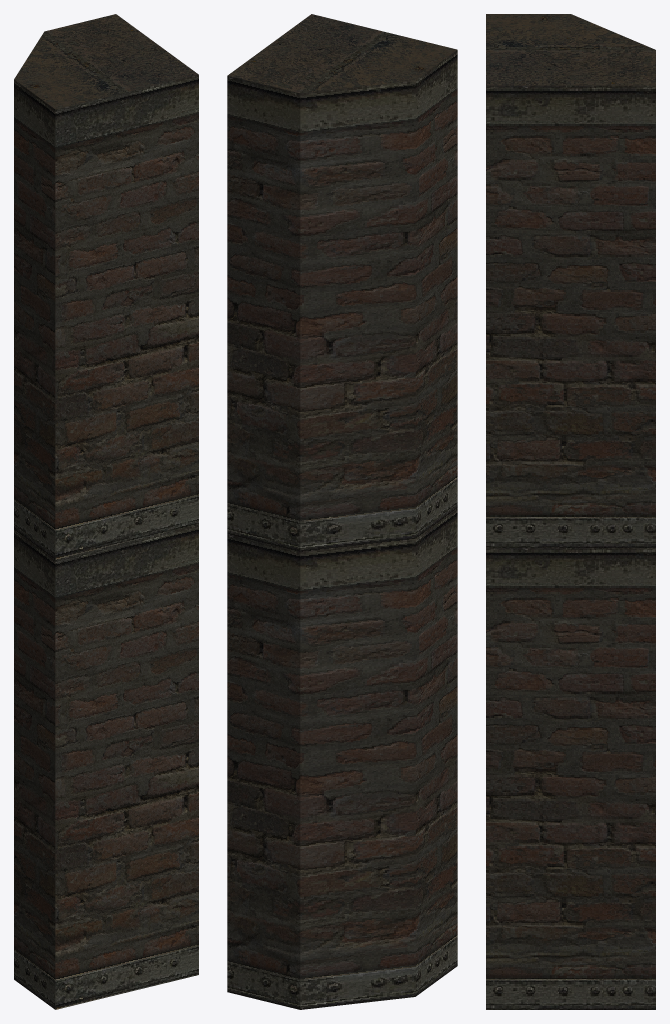
Rendered from pillar_hr_6.glb.
3 renders of one model, left to right at view 1: azimuth 30°, elevation 25°; view 2: azimuth 150°, elevation 25°; view 3: azimuth 270°, elevation 25°, orthographic. The views are drawn at different scales.
Visible parts, largest first — view 1: pillar_hr_6; view 2: pillar_hr_6; view 3: pillar_hr_6.
Part boxes in pixels (x1=…): pillar_hr_6: x1=14, y1=14, x2=198, y2=1009; pillar_hr_6: x1=227, y1=14, x2=457, y2=1009; pillar_hr_6: x1=486, y1=14, x2=655, y2=1009.
Bounding box in the file's own units: 1 × 6 × 1.
Materials: 2 (2 with a texture image).
